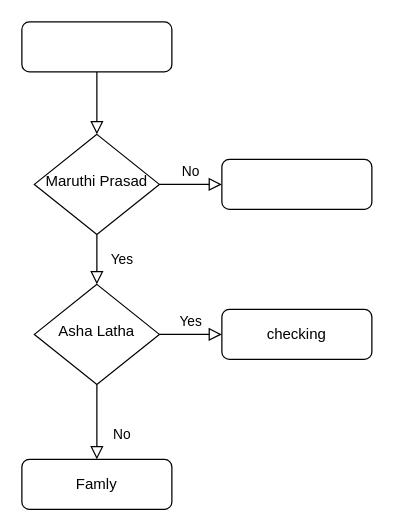
This 394x531 diagram has some shape labels left out. The centre of each missing label's shape, as x and y in pixels:
Mom/dad: point 96,46
Test: point 296,183
